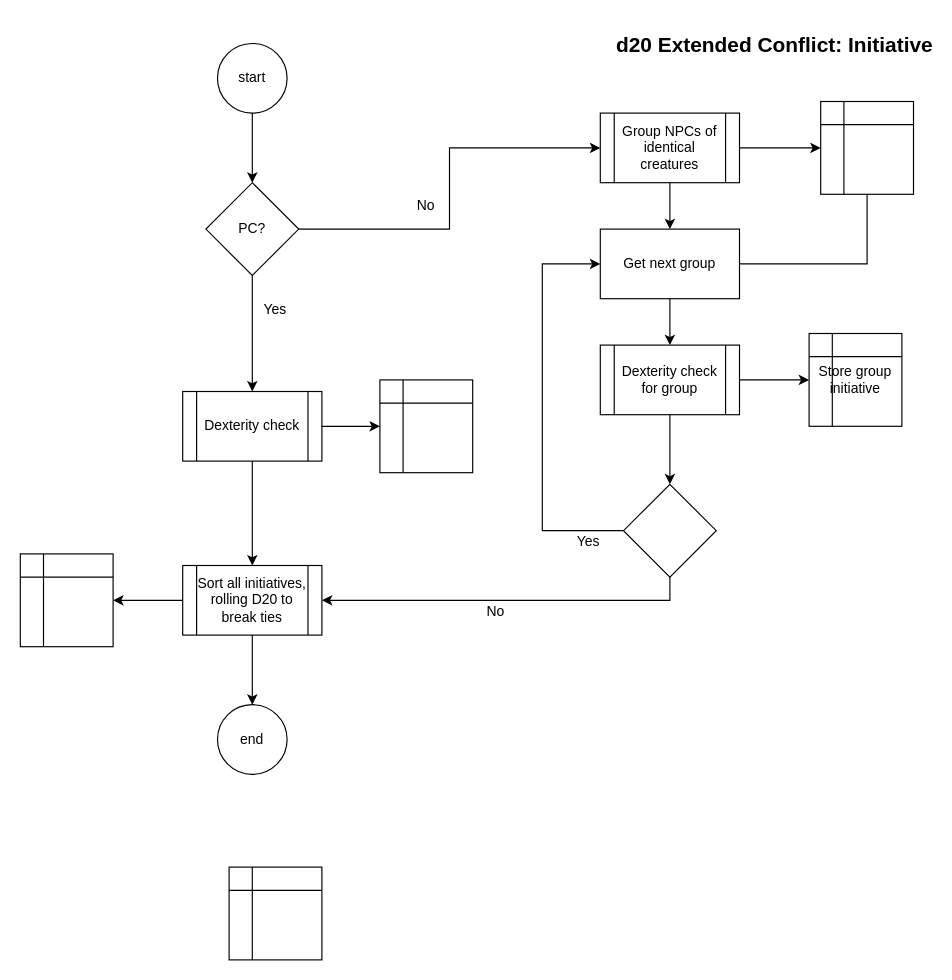
The diagram is 952 pixels wide and 980 high, and some of its shapes have lost their labels. The centre of each missing label's shape, as x and y in pixels:
"More groups?" goes at [669,530].
"Store groups" goes at [866,147].
"Store order" goes at [66,600].
"Store PC initiative" goes at [426,426].
